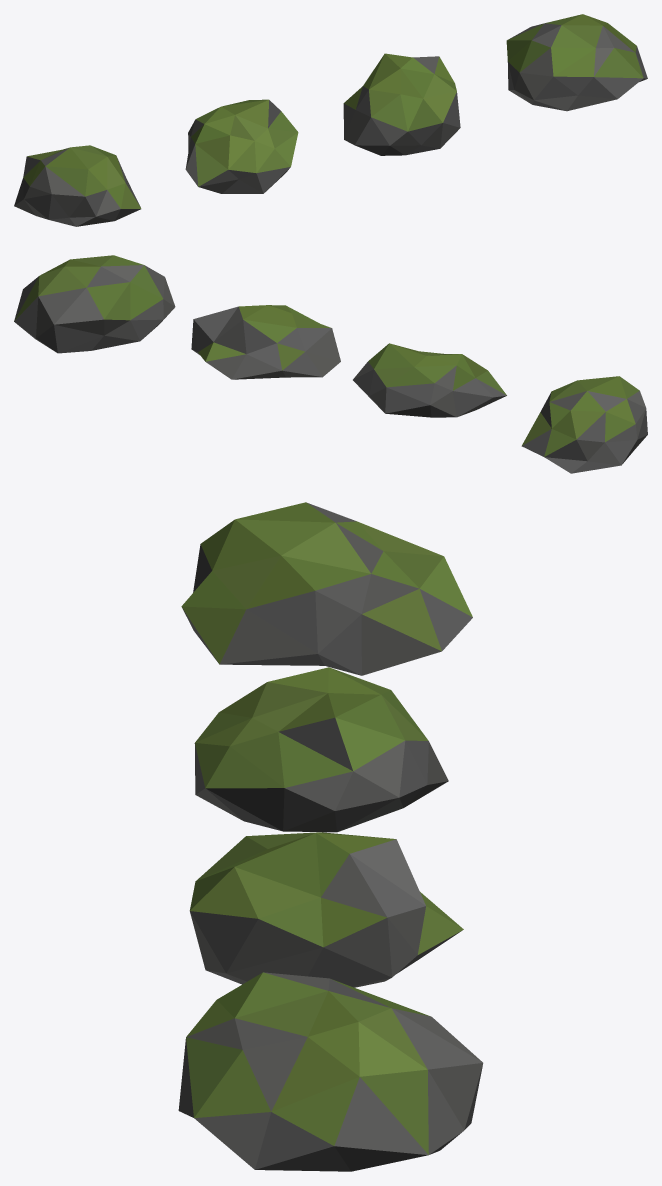
File: ranvora_v2_mossy_rock.glb
3 renders of one model, top to bottom at view 1: azimuth 30°, elevation 25°; view 2: azimuth 150°, elevation 25°; view 3: azimuth 270°, elevation 25°, orthographic. The views are drawn at different scales.
Visible parts, largest first — view 1: mossyRock_D_mesh, mossyRock_C_mesh, mossyRock_B_mesh, mossyRock_A_mesh; view 2: mossyRock_D_mesh, mossyRock_C_mesh, mossyRock_A_mesh, mossyRock_B_mesh; view 3: mossyRock_D_mesh, mossyRock_A_mesh, mossyRock_C_mesh, mossyRock_B_mesh.
Part boxes in pixels (x1=…): mossyRock_D_mesh: x1=506, y1=14, x2=647, y2=111; mossyRock_C_mesh: x1=343, y1=53, x2=460, y2=155; mossyRock_B_mesh: x1=185, y1=99, x2=298, y2=193; mossyRock_A_mesh: x1=14, y1=145, x2=141, y2=226; mossyRock_D_mesh: x1=14, y1=255, x2=175, y2=353; mossyRock_C_mesh: x1=191, y1=305, x2=340, y2=379; mossyRock_A_mesh: x1=521, y1=376, x2=647, y2=473; mossyRock_B_mesh: x1=353, y1=343, x2=506, y2=417; mossyRock_D_mesh: x1=178, y1=972, x2=483, y2=1171; mossyRock_A_mesh: x1=181, y1=502, x2=472, y2=675; mossyRock_C_mesh: x1=189, y1=832, x2=463, y2=987; mossyRock_B_mesh: x1=194, y1=667, x2=448, y2=832.
Size of the model in its own units: 11.89 by 1.18 by 2.56.
